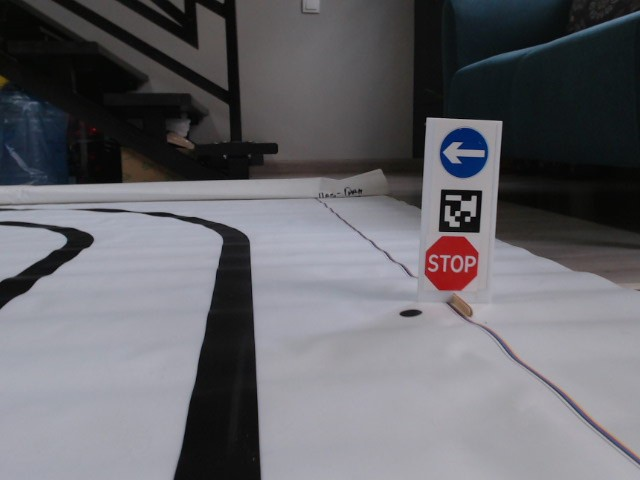Stop: (425, 235, 477, 293)
